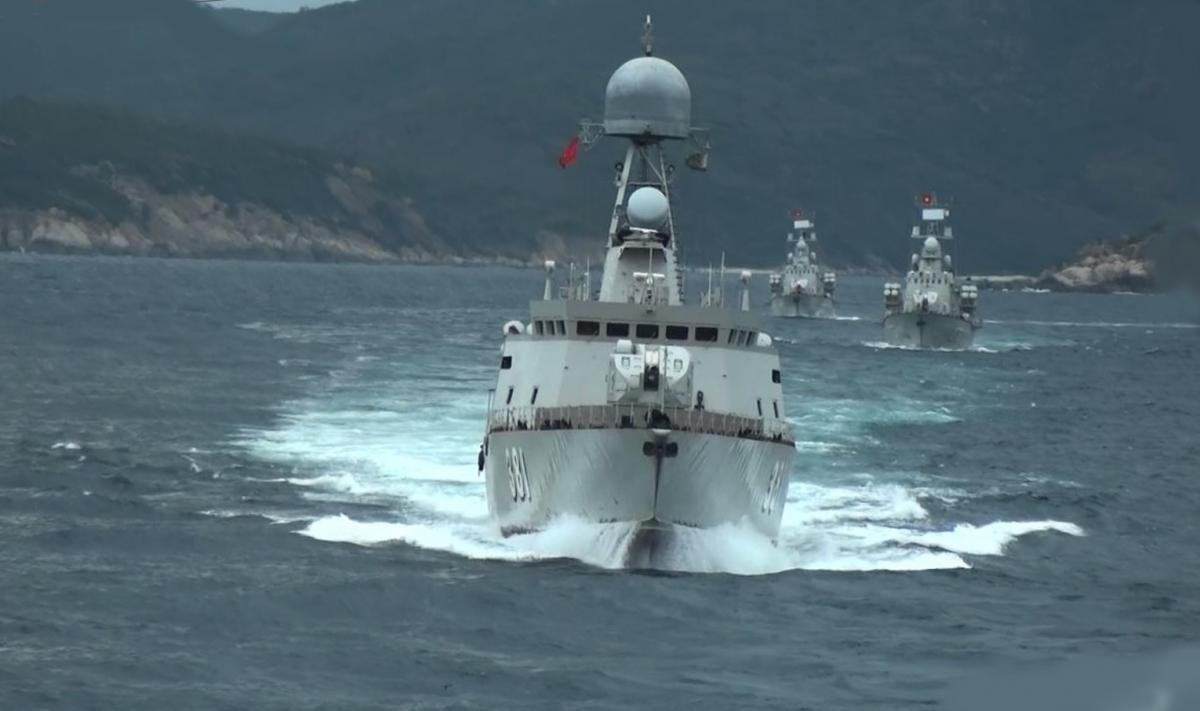MIL_Ship: (474, 34, 802, 581), (874, 195, 994, 355), (765, 211, 846, 324)
